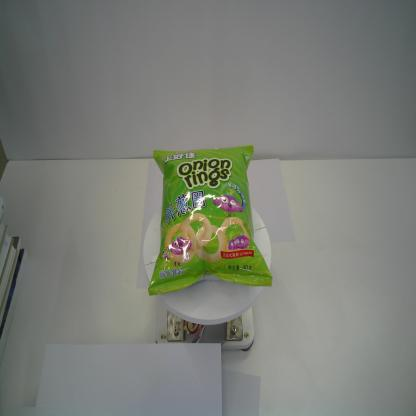Puffed Food: (147, 144, 273, 296)
